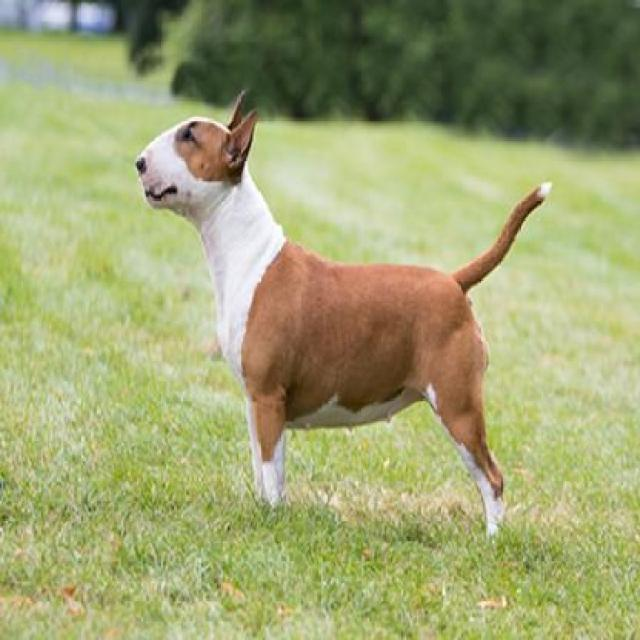animals: (136, 77, 549, 528)
